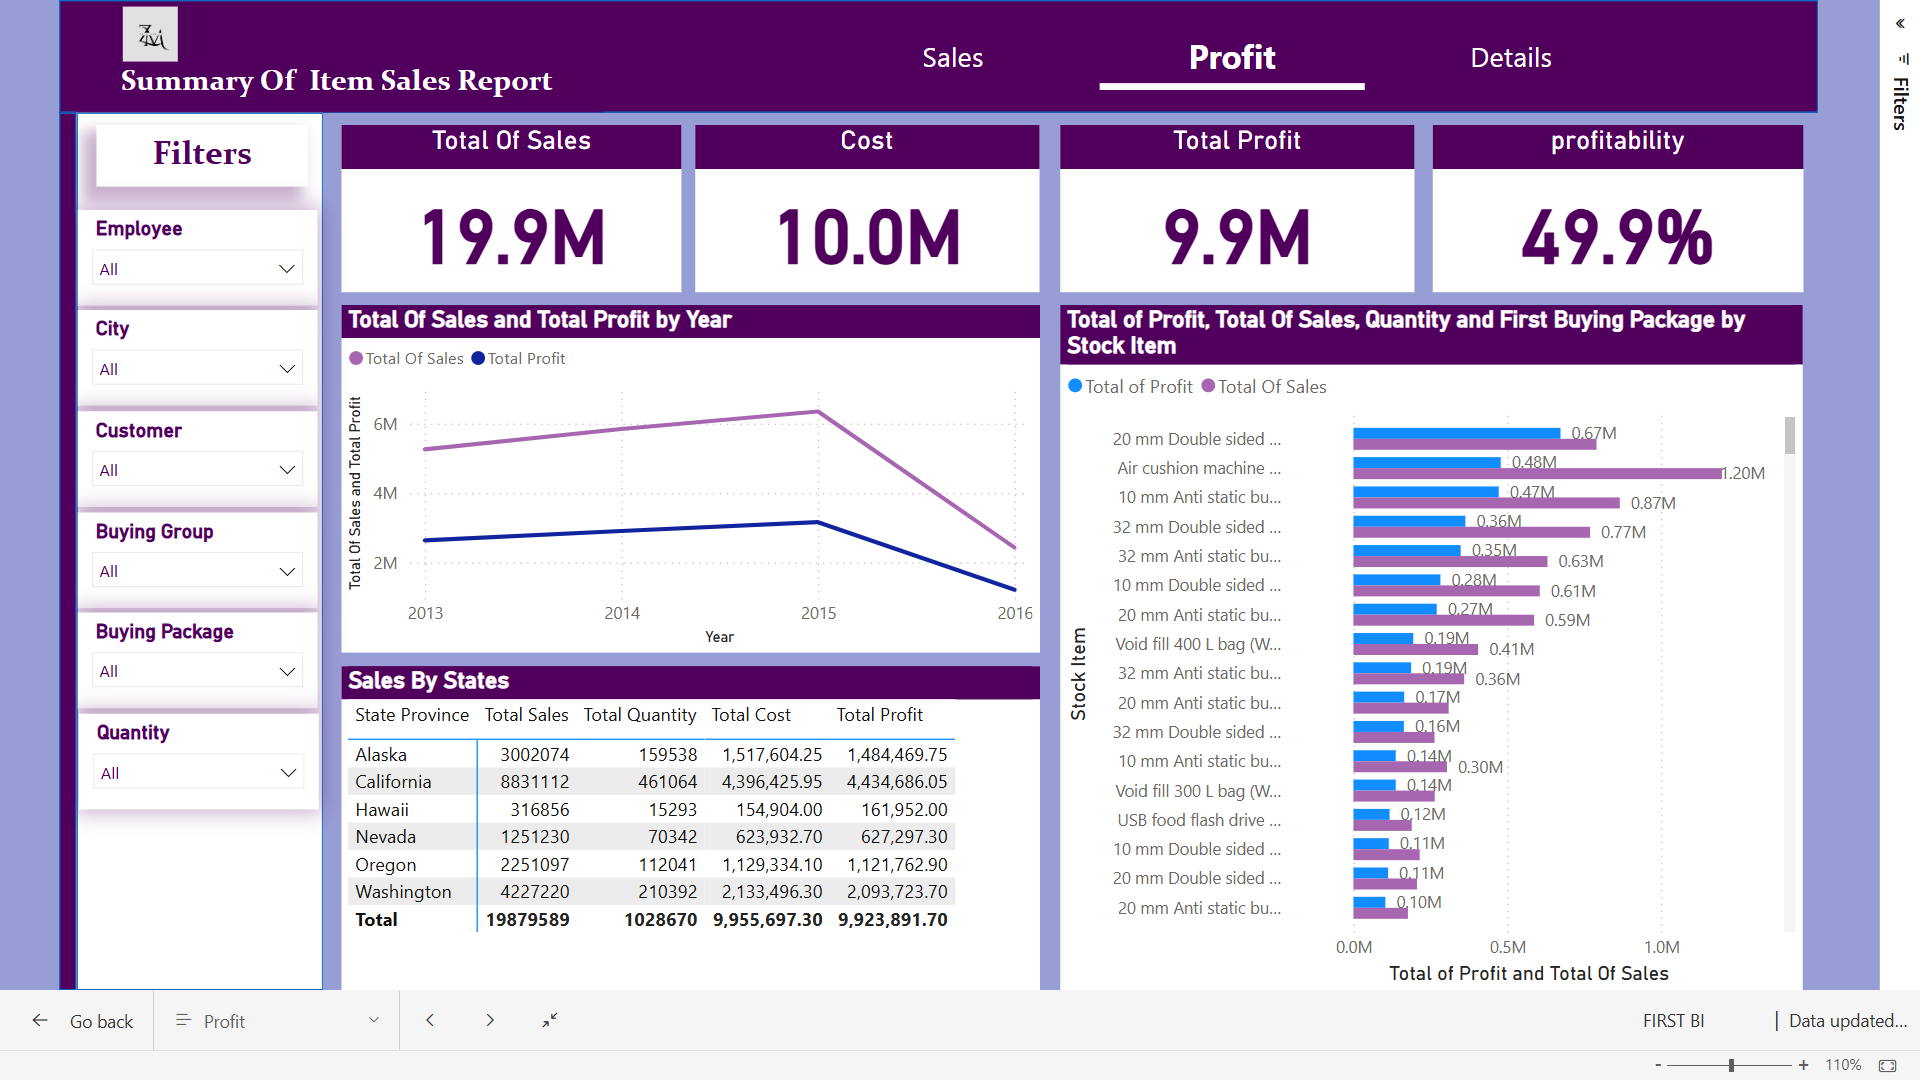

What the dashboard file says about the page in this screenshot:
{"tool":"powerbi","page":{"name":"Profit","canvas":[1280,720],"ordinal":1},"visuals":[{"type":"shape","box":[0,0,1279.5,82.1],"z":0},{"type":"shape","box":[0,82.1,12.8,638.5],"z":1000},{"type":"shape","box":[12.8,82.1,179.5,638.5],"z":2000},{"type":"textbox","box":[12.8,41,383.3,41],"z":3000},{"type":"image","box":[0,0,132.1,50],"z":4000},{"type":"card","title":"Total Of Sales ","fields":{"Values":["Sum(FactSale.Total Excluding Tax)"]},"box":[205.1,91,247.4,121.8],"z":5000},{"type":"textbox","box":[26.9,91,153.8,44.9],"z":6000},{"type":"lineChart","fields":{"Category":["DimData.Date.Variation.Date Hierarchy.Year","DimData.Date.Variation.Date Hierarchy.Quarter","DimData.Date.Variation.Date Hierarchy.Month","DimData.Date.Variation.Date Hierarchy.Day"],"Y":["Sum(FactSale.Total Excluding Tax)","Sum(FactSale.Profit)"]},"box":[205.1,221.8,507.7,252.6],"z":7000},{"type":"clusteredBarChart","fields":{"Category":["DimStockItem.Stock Item"],"Y":["Sum(FactSale.Profit)","Sum(FactSale.Total Excluding Tax)"]},"box":[728.2,221.8,539.7,498.7],"z":8000},{"type":"pivotTable","title":"Sales By States","fields":{"Values":["Sum(FactSale.Total Excluding Tax)","Sum(FactSale.Quantity)","Sum(FactSale.Cost)","Sum(FactSale.Profit)"],"Rows":["DimCity.State Province"]},"box":[205.1,484.6,507.7,235.9],"z":9000},{"type":"slicer","fields":{"Values":["DimEmployee.Employee"]},"box":[14,152.6,174,69.2],"z":10000},{"type":"slicer","fields":{"Values":["DimCity.City"]},"box":[13.8,225.9,174.4,69.2],"z":11000},{"type":"slicer","fields":{"Values":["DimCustomer.Customer"]},"box":[13.8,299.2,174.4,69.2],"z":12000},{"type":"slicer","fields":{"Values":["DimCustomer.Buying Group"]},"box":[13.8,372.6,174.4,69.2],"z":13000},{"type":"slicer","fields":{"Values":["DimStockItem.Buying Package"]},"box":[13.8,445.9,174.4,69.2],"z":14000},{"type":"slicer","fields":{"Values":["FactSale.Quantity"]},"box":[14.1,519.2,174.4,69.2],"z":15000},{"type":"card","title":"Cost","fields":{"Values":["Sum(FactSale.Cost)"]},"box":[462.8,91,250,121.8],"z":16000},{"type":"card","title":"Total Profit","fields":{"Values":["Sum(FactSale.Profit)"]},"box":[728.2,91,257.7,121.8],"z":17000},{"type":"card","title":"profitability","fields":{"Values":["FactSale.profitability"]},"box":[998.7,91,269.2,121.8],"z":18000},{"type":"pageNavigator","box":[553.8,15.4,600,50],"z":19000}]}

Visuals, with their boxes on the page's 1280x720 design canvas (x1, y1, x2, y2). These are canvas units, not pixel positions in the 1920x1080 screenshot, which may show the page scaled, cropped or inside an application window:
shape: [left=0, top=0, right=1280, bottom=82]
shape: [left=0, top=82, right=13, bottom=721]
shape: [left=13, top=82, right=192, bottom=721]
textbox: [left=13, top=41, right=396, bottom=82]
image: [left=0, top=0, right=132, bottom=50]
"Total Of Sales " card: [left=205, top=91, right=452, bottom=213]
textbox: [left=27, top=91, right=181, bottom=136]
lineChart - DimData.Date.Variation.Date Hierarchy.Year x DimData.Date.Variation.Date Hierarchy.Quarter: [left=205, top=222, right=713, bottom=474]
clusteredBarChart - DimStockItem.Stock Item x Sum(FactSale.Profit): [left=728, top=222, right=1268, bottom=720]
"Sales By States" pivotTable: [left=205, top=485, right=713, bottom=720]
slicer - DimEmployee.Employee: [left=14, top=153, right=188, bottom=222]
slicer - DimCity.City: [left=14, top=226, right=188, bottom=295]
slicer - DimCustomer.Customer: [left=14, top=299, right=188, bottom=368]
slicer - DimCustomer.Buying Group: [left=14, top=373, right=188, bottom=442]
slicer - DimStockItem.Buying Package: [left=14, top=446, right=188, bottom=515]
slicer - FactSale.Quantity: [left=14, top=519, right=188, bottom=588]
"Cost" card: [left=463, top=91, right=713, bottom=213]
"Total Profit" card: [left=728, top=91, right=986, bottom=213]
"profitability" card: [left=999, top=91, right=1268, bottom=213]
pageNavigator: [left=554, top=15, right=1154, bottom=65]
